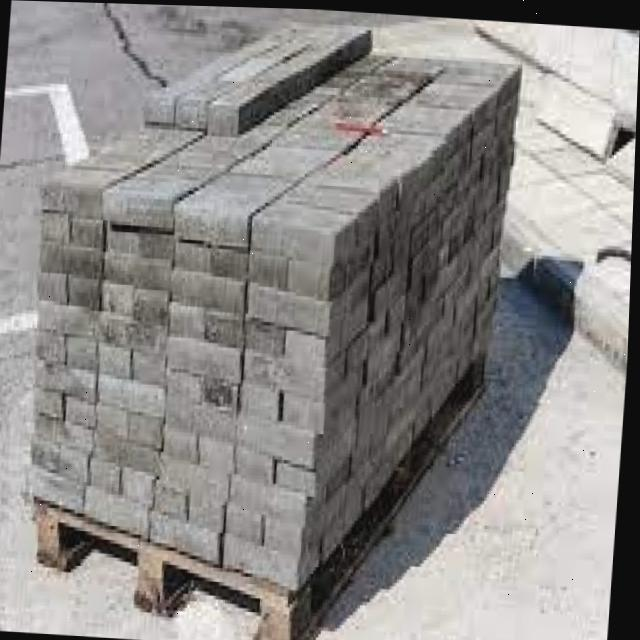bricks: (34, 21, 520, 586)
